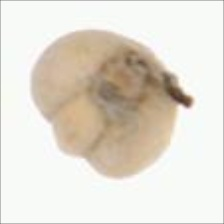L5: (93, 39, 197, 124), (52, 89, 104, 161)
L6: (26, 27, 199, 183)
